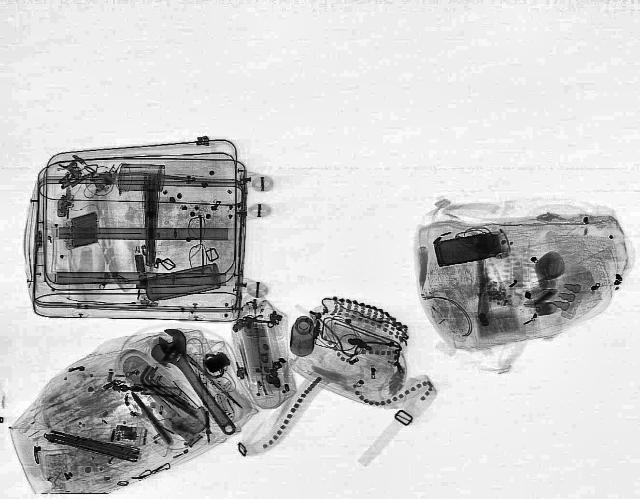Wrench: (136, 324, 254, 442)
